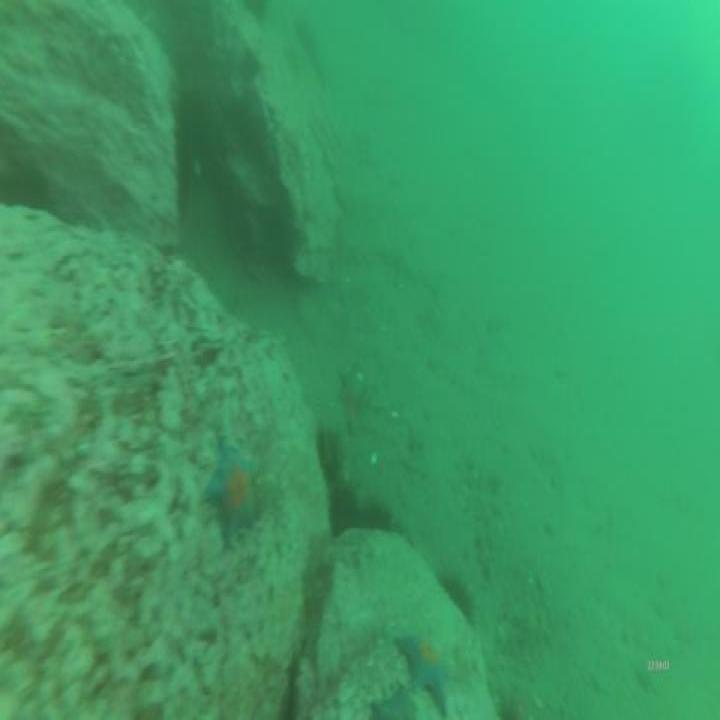echinus: (314, 425, 340, 475), (334, 478, 356, 534)
starfish: (396, 631, 456, 715), (207, 448, 256, 544)
